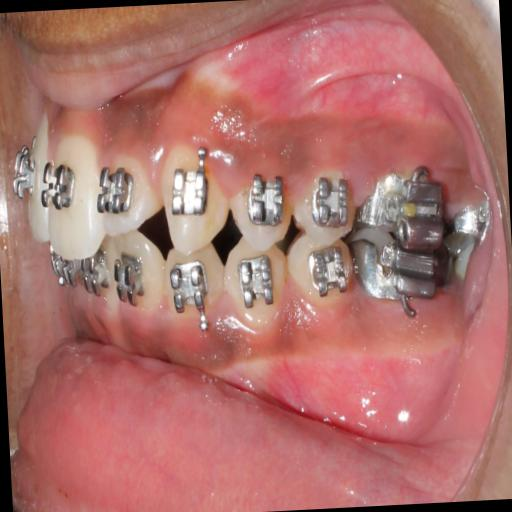correct_brace: (228, 170, 297, 258), (163, 162, 214, 227), (39, 157, 80, 213), (98, 168, 133, 216)
incorrect_brace: (98, 150, 160, 240), (244, 176, 289, 228)
